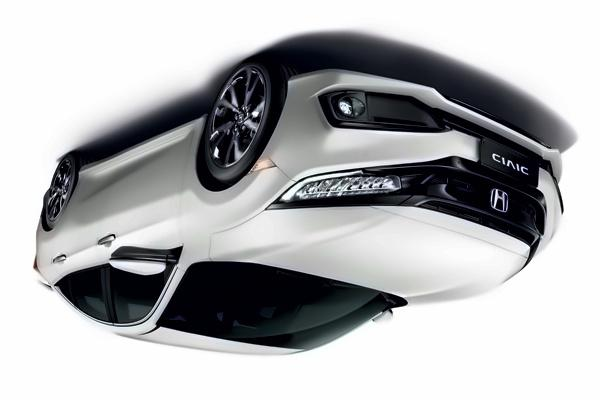Car hood: (209, 202, 531, 303)
Fender - -F-L-: (181, 105, 299, 252)
Front bumper: (261, 62, 581, 198)
Headlight - -L-: (272, 167, 405, 205)
Passenger-s door - -F-L-: (99, 123, 193, 336)
Passenger-s door - -R-L-: (52, 177, 121, 340)
Rear bumper: (22, 216, 62, 281)
Side bumper - -L-: (72, 112, 209, 181)
Side mirror - -L-: (104, 238, 186, 287)
Side mirror - -R-: (369, 302, 410, 336)
